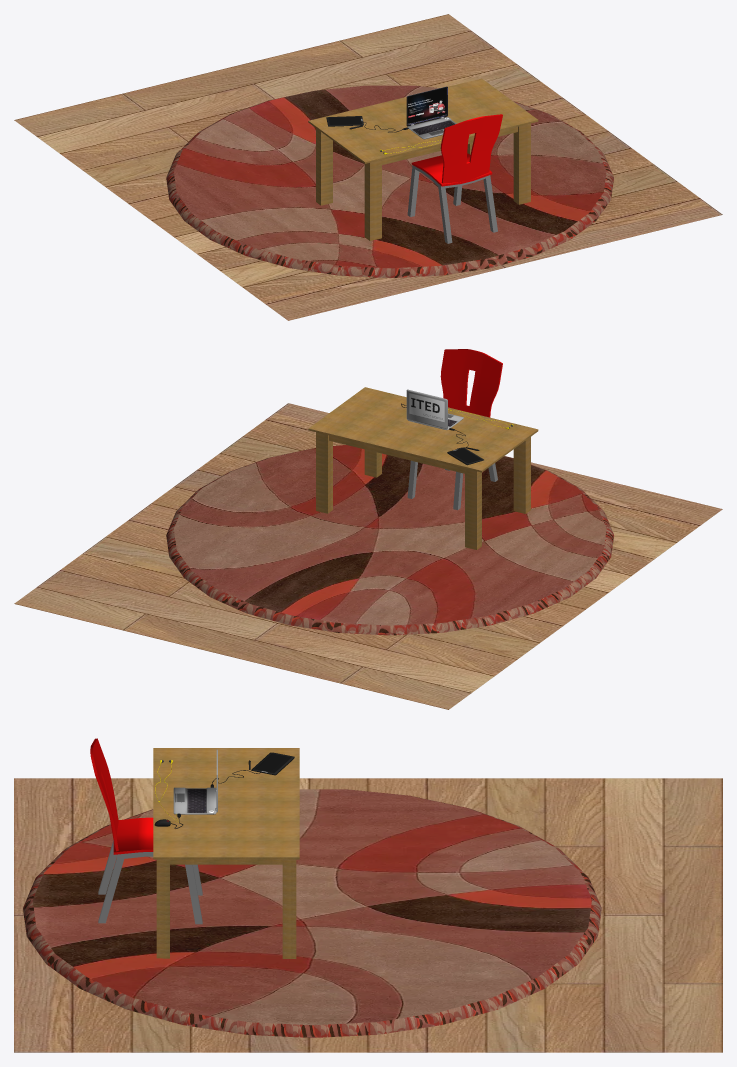
3 views of the same model, one above another, from view 1: azimuth 30°, elevation 25°; view 2: azimuth 150°, elevation 25°; view 3: azimuth 270°, elevation 25° (orthographic). The views are drawn at different scales.
Parts seen in each view (by area): view 1: Object_12, Object_4, Object_8, Object_9, Object_10, Object_6, Object_5; view 2: Object_12, Object_4, Object_8, Object_9, Object_5, Object_10; view 3: Object_12, Object_4, Object_8, Object_9, Object_10, Object_5, Object_3.
Boxes of the visible parts, x1=… form: Object_12: x1=166, y1=85, x2=613, y2=278; Object_4: x1=14, y1=14, x2=722, y2=320; Object_8: x1=308, y1=78, x2=538, y2=240; Object_9: x1=411, y1=114, x2=502, y2=186; Object_10: x1=407, y1=165, x2=497, y2=243; Object_6: x1=407, y1=88, x2=446, y2=124; Object_5: x1=406, y1=86, x2=456, y2=139; Object_12: x1=166, y1=445, x2=613, y2=635; Object_4: x1=14, y1=403, x2=722, y2=709; Object_8: x1=308, y1=387, x2=538, y2=549; Object_9: x1=440, y1=349, x2=502, y2=417; Object_5: x1=406, y1=389, x2=463, y2=430; Object_10: x1=407, y1=460, x2=497, y2=510; Object_12: x1=23, y1=789, x2=601, y2=1037; Object_4: x1=14, y1=778, x2=722, y2=1052; Object_8: x1=153, y1=748, x2=299, y2=958; Object_9: x1=90, y1=738, x2=153, y2=854; Object_10: x1=98, y1=840, x2=202, y2=924; Object_5: x1=173, y1=749, x2=217, y2=814; Object_3: x1=212, y1=752, x2=294, y2=784.
Size of the model in its own units: 1165 by 330 by 1273.
Materials: 10 (8 with a texture image).
